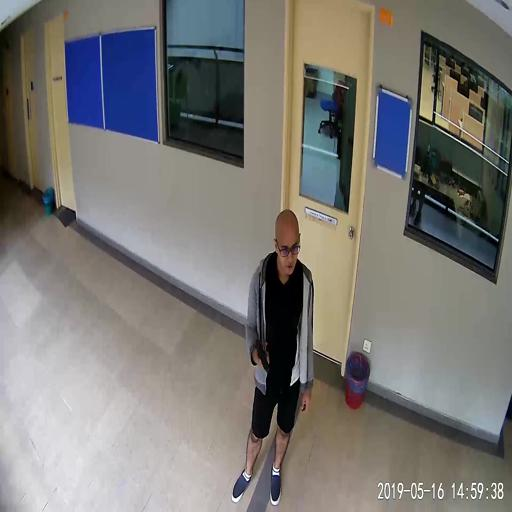pistol: (255, 340, 270, 372)
